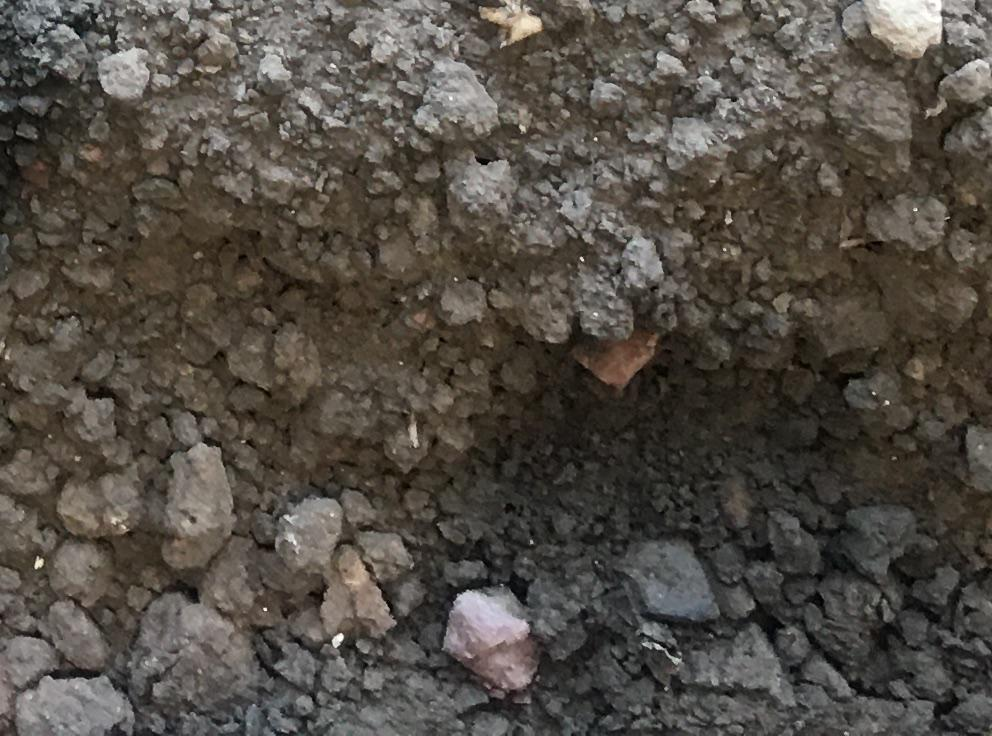block: (430, 580, 534, 690), (158, 444, 242, 565)
